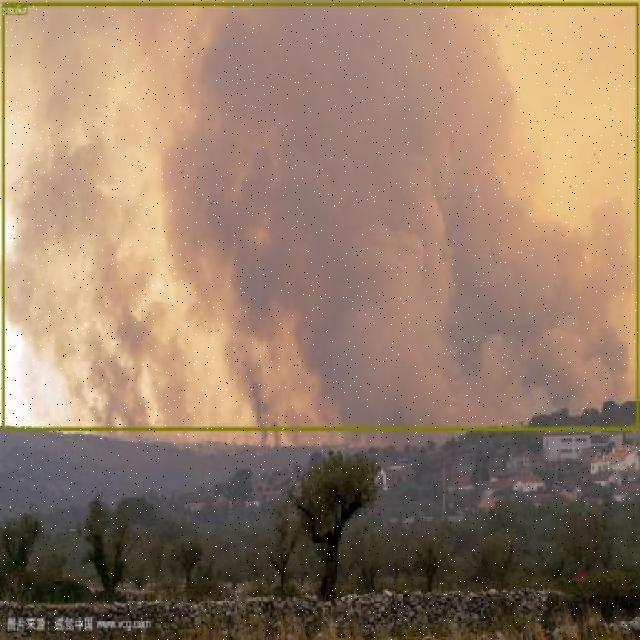Smoke: (2, 2, 638, 430)
